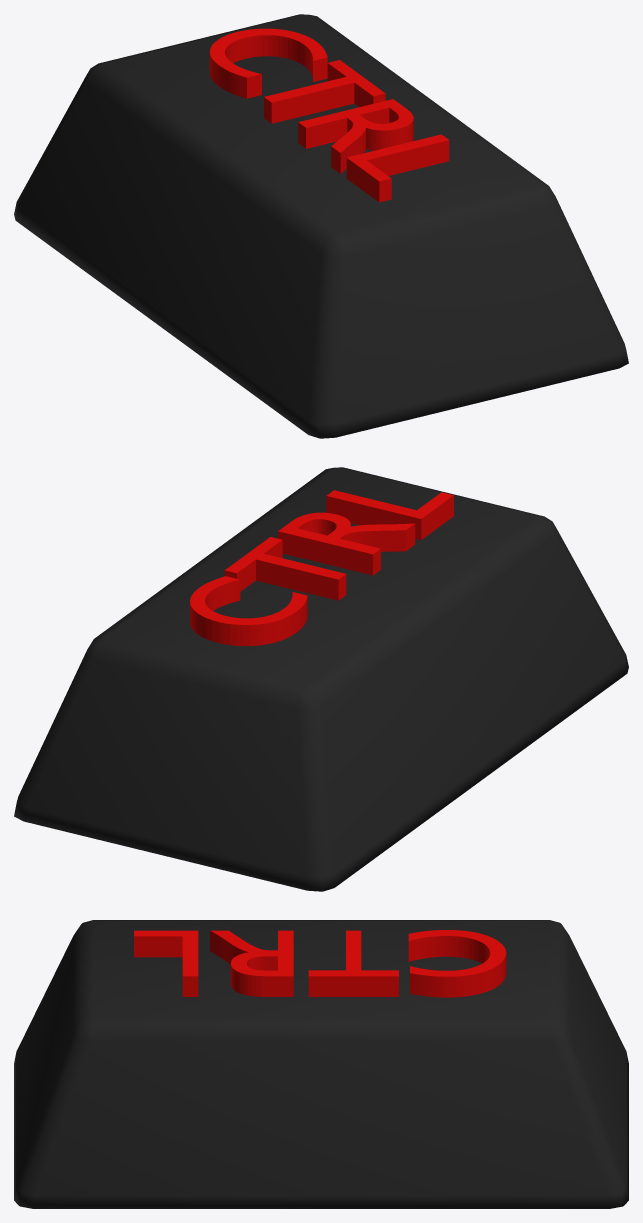
File: CTRL-Key.fbx
3 renders of one model, top to bottom at view 1: azimuth 30°, elevation 25°; view 2: azimuth 150°, elevation 25°; view 3: azimuth 270°, elevation 25°, orthographic.
Parts seen in each view (by area): view 1: Text; view 2: Text; view 3: Text.
Boxes of the visible parts, x1,y1,x2,y2 form: Text: (14, 14, 628, 438); Text: (14, 467, 628, 891); Text: (14, 920, 628, 1208).
Size of the model in its own units: 2.29 by 1.28 by 3.88.
